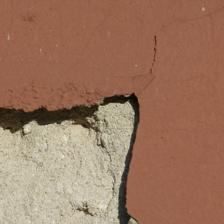Crack: (40, 17, 109, 130), (116, 0, 176, 102)
